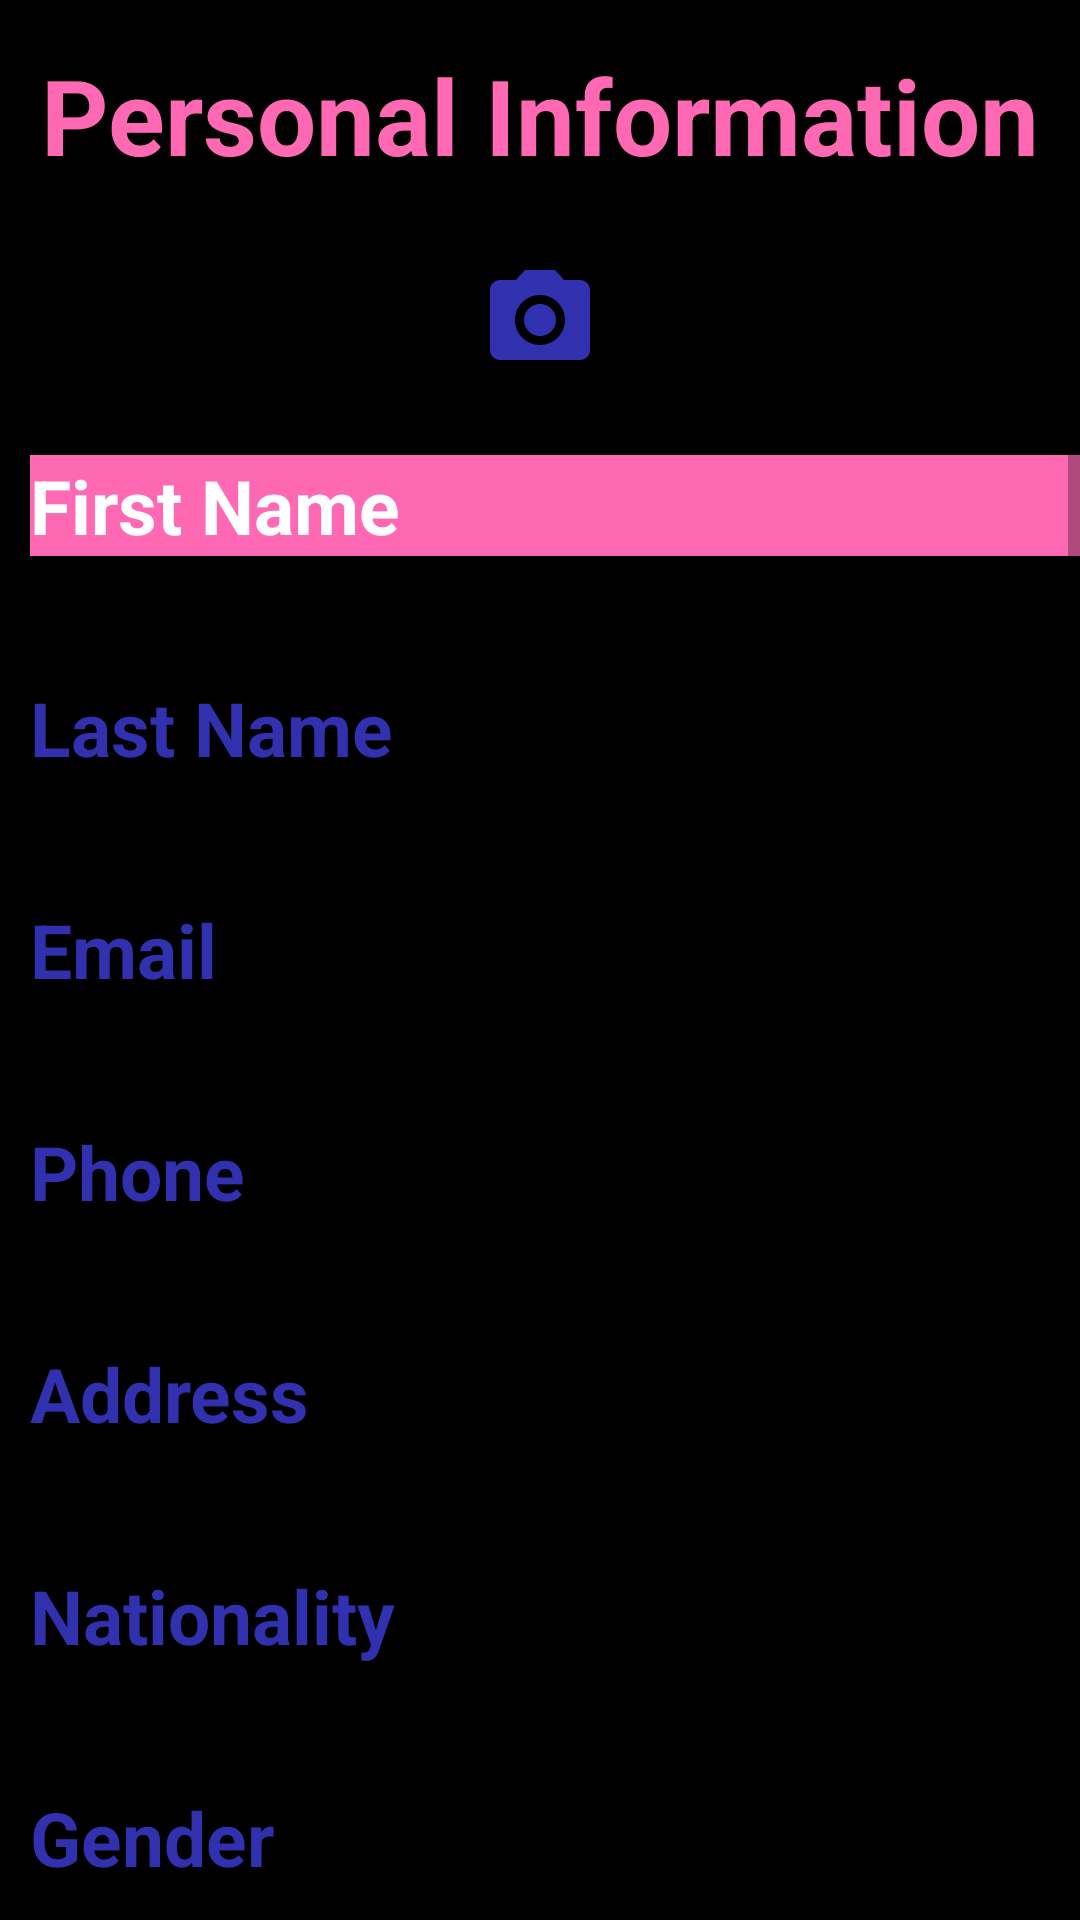

Locate icon controls on the screen. Image size 1080 x 1920, boxes as (x1, y1, x2, y2).
camera: (490, 270, 590, 360)
